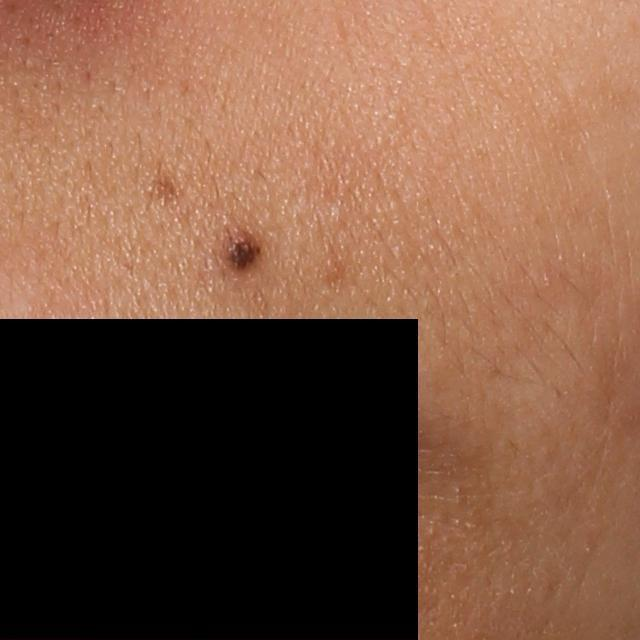nevus: (214, 230, 262, 275), (137, 166, 179, 204)
